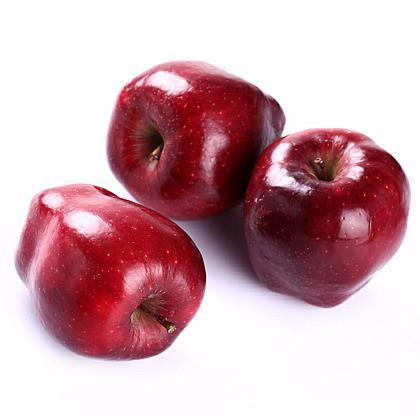apple: (14, 183, 208, 358), (243, 127, 409, 310), (106, 60, 285, 223)
